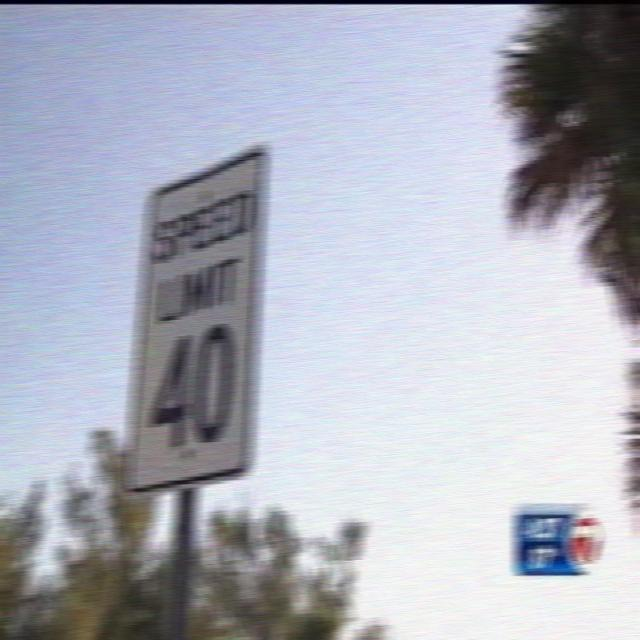speedLimit40: (129, 145, 266, 480)
